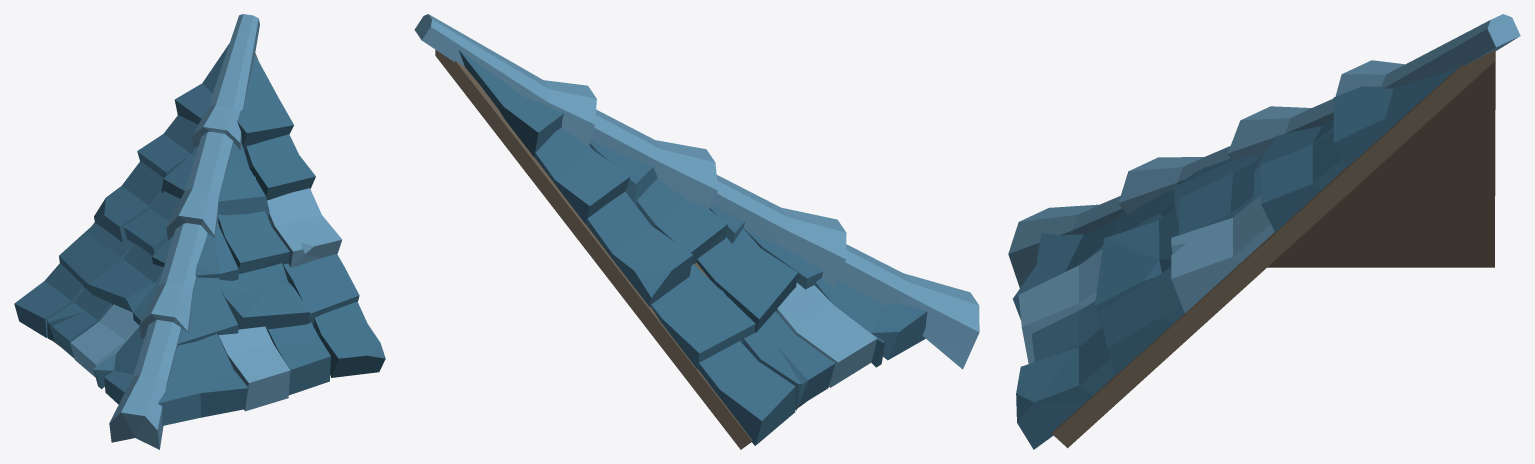
File: ROOF_corner_out_1.glb
The picture shows the model from 3 angles, left to right: view 1: azimuth 30°, elevation 25°; view 2: azimuth 150°, elevation 25°; view 3: azimuth 270°, elevation 25°; orthographic projection. The views are drawn at different scales.
Parts seen in each view (by area): view 1: ROOF_corner_out_1; view 2: ROOF_corner_out_1; view 3: ROOF_corner_out_1.
Part boxes in pixels (x1,y1,x2,y2): ROOF_corner_out_1: (14,14,385,449); ROOF_corner_out_1: (414,14,979,449); ROOF_corner_out_1: (1008,14,1520,449).
Bounding box in the file's own units: 1.27 × 1.23 × 1.2.
Materials: 1 (1 with a texture image).
